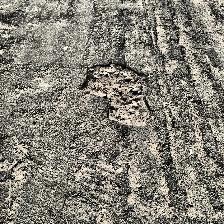pothole: (80, 60, 154, 128)
